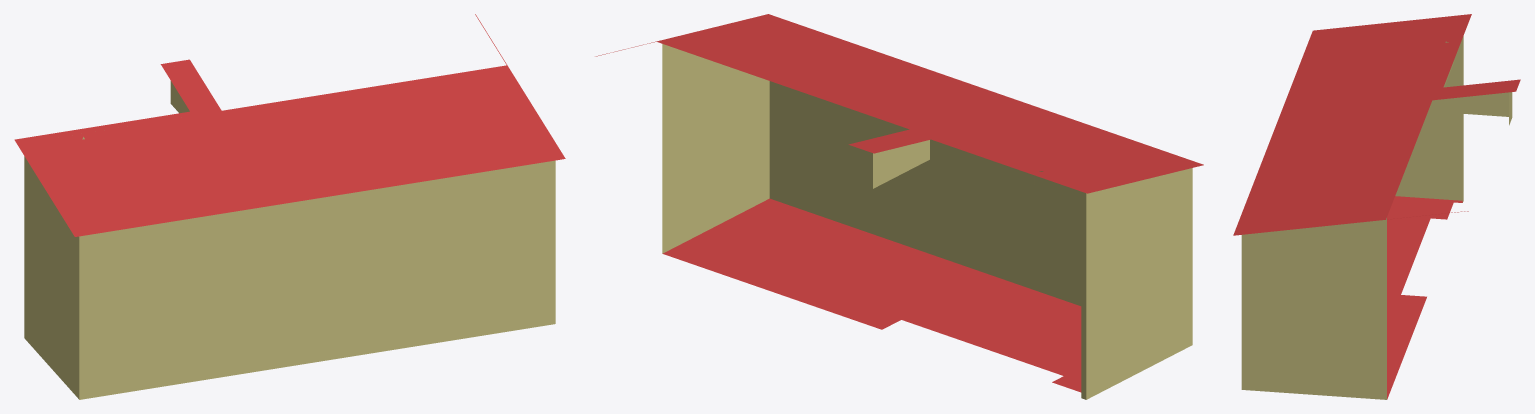
3 views of the same model, side by side, from view 1: azimuth 30°, elevation 25°; view 2: azimuth 150°, elevation 25°; view 3: azimuth 270°, elevation 25° (orthographic). The views are drawn at different scales.
Bounding box in the file's own units: 17.91 × 9.83 × 7.45.
